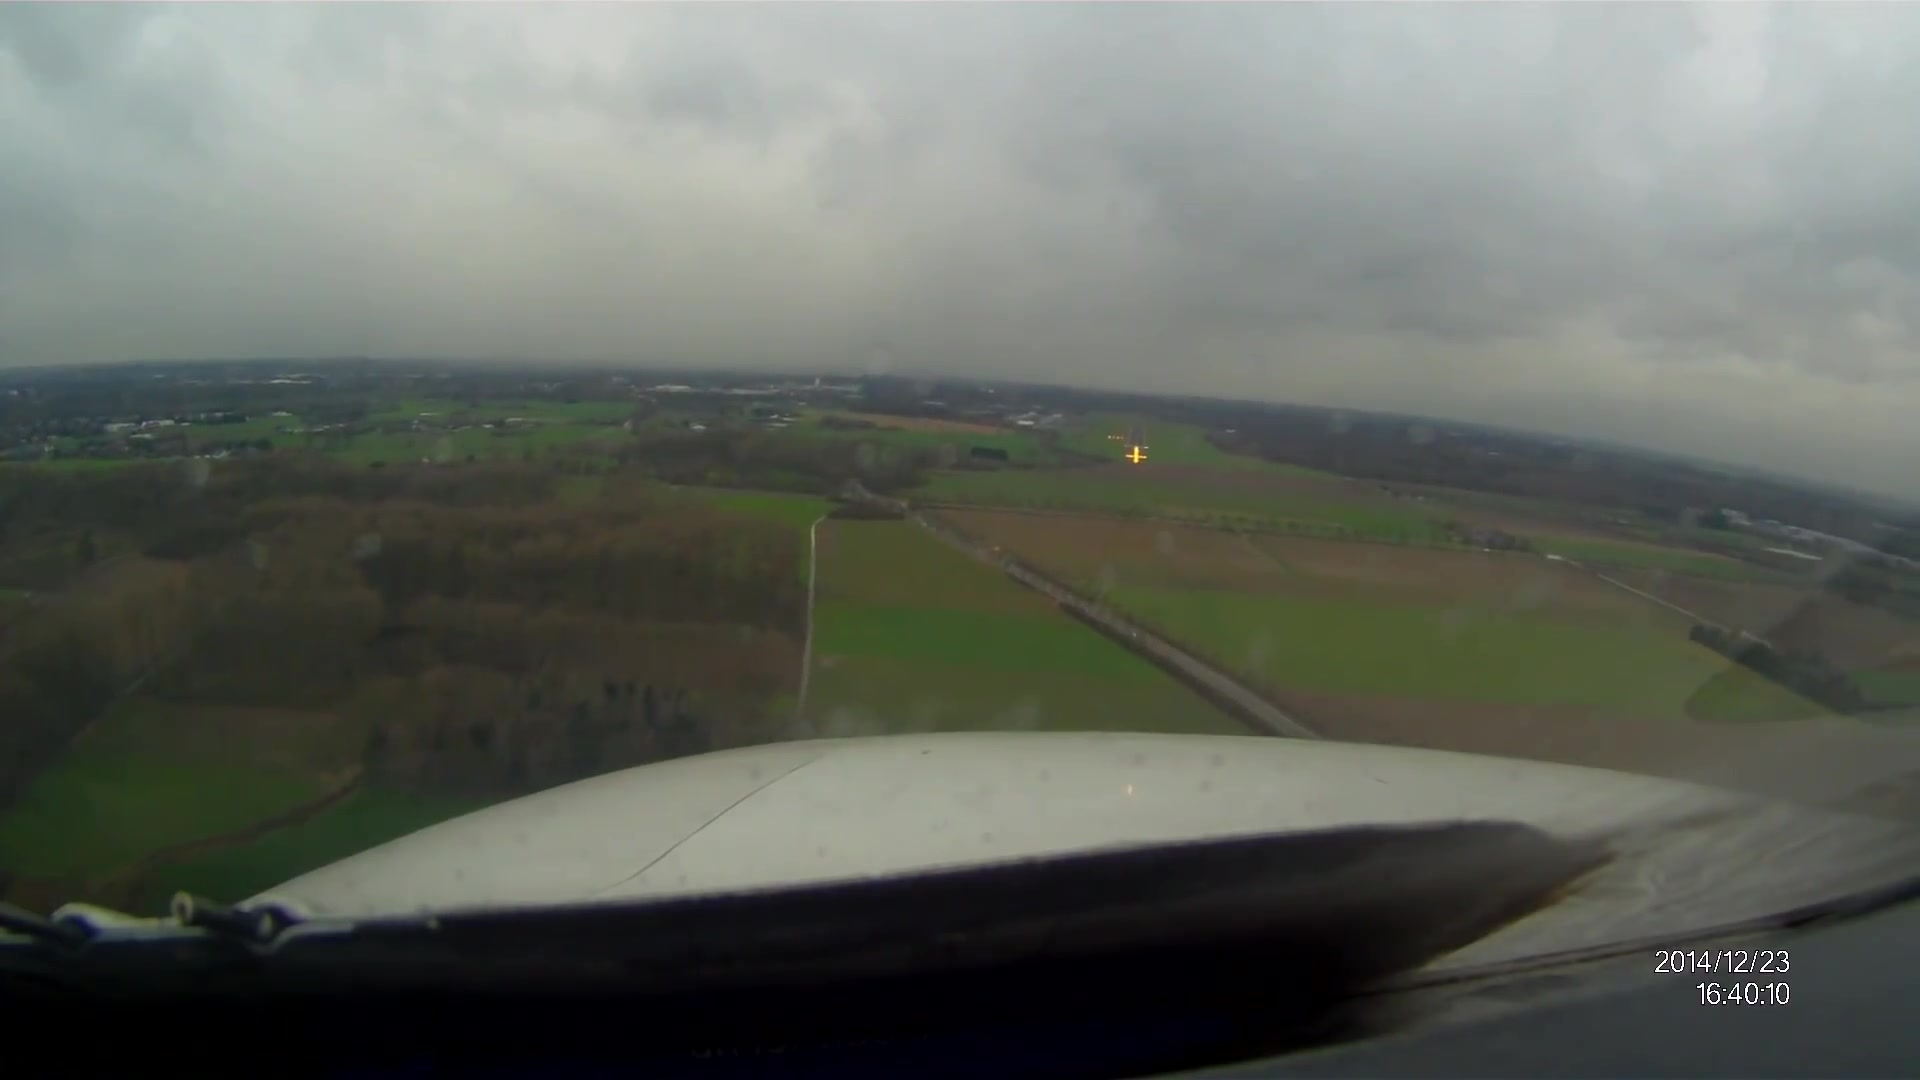runway: (1124, 410, 1154, 463)
